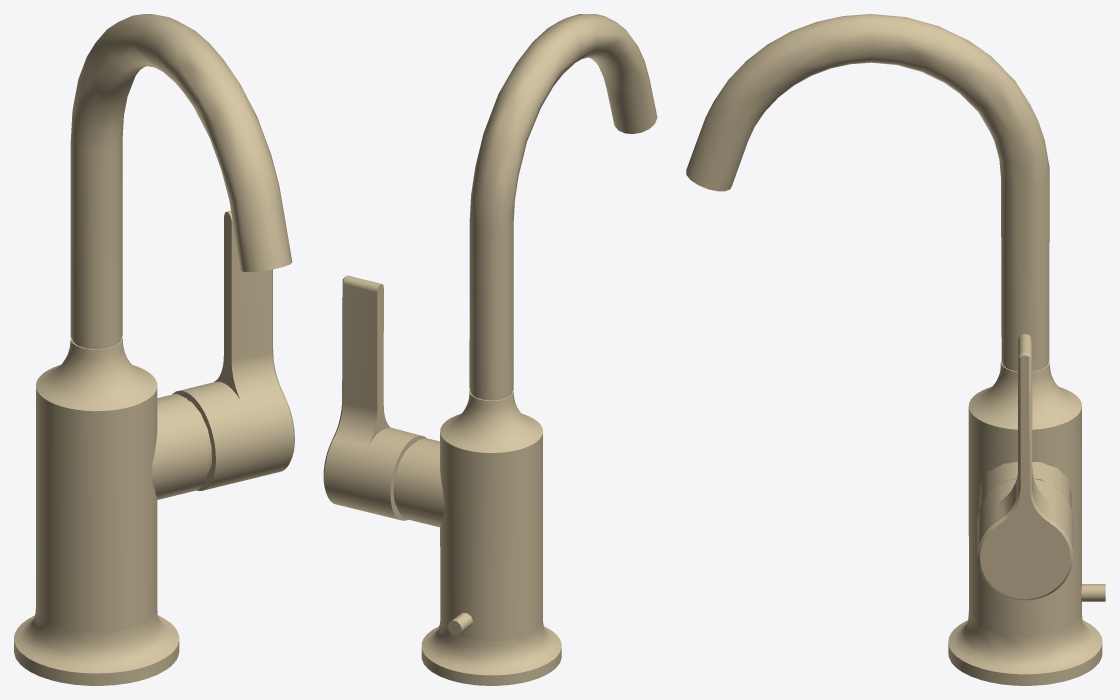
3 views of the same model, side by side, from view 1: azimuth 30°, elevation 25°; view 2: azimuth 150°, elevation 25°; view 3: azimuth 270°, elevation 25° (orthographic). The views are drawn at different scales.
Visible parts, largest first — view 1: L_b3fd0373_e40e_47cc_bae9_4134293fa280_I4, L_bc06e1d6_9562_45b6_9079_8a355efceec8_I5, L_0d1ed727_36de_4429_a493_0a0added364f_I1, L_e933ee48_d21f_4b62_84b1_4d9048b2e1e1_I6; view 2: L_b3fd0373_e40e_47cc_bae9_4134293fa280_I4, L_bc06e1d6_9562_45b6_9079_8a355efceec8_I5, L_0d1ed727_36de_4429_a493_0a0added364f_I1, L_e933ee48_d21f_4b62_84b1_4d9048b2e1e1_I6; view 3: L_bc06e1d6_9562_45b6_9079_8a355efceec8_I5, L_b3fd0373_e40e_47cc_bae9_4134293fa280_I4, L_0d1ed727_36de_4429_a493_0a0added364f_I1, L_e933ee48_d21f_4b62_84b1_4d9048b2e1e1_I6.
Part boxes in pixels (box(x1,y1,x2,y2)): L_b3fd0373_e40e_47cc_bae9_4134293fa280_I4: box(14, 337, 179, 685); L_bc06e1d6_9562_45b6_9079_8a355efceec8_I5: box(70, 14, 292, 346); L_0d1ed727_36de_4429_a493_0a0added364f_I1: box(172, 211, 294, 490); L_e933ee48_d21f_4b62_84b1_4d9048b2e1e1_I6: box(152, 393, 211, 499); L_b3fd0373_e40e_47cc_bae9_4134293fa280_I4: box(421, 390, 561, 685); L_bc06e1d6_9562_45b6_9079_8a355efceec8_I5: box(469, 14, 657, 398); L_0d1ed727_36de_4429_a493_0a0added364f_I1: box(323, 275, 426, 520); L_e933ee48_d21f_4b62_84b1_4d9048b2e1e1_I6: box(393, 438, 444, 527); L_bc06e1d6_9562_45b6_9079_8a355efceec8_I5: box(686, 14, 1049, 369); L_b3fd0373_e40e_47cc_bae9_4134293fa280_I4: box(948, 361, 1102, 685); L_0d1ed727_36de_4429_a493_0a0added364f_I1: box(977, 334, 1073, 600); L_e933ee48_d21f_4b62_84b1_4d9048b2e1e1_I6: box(979, 461, 1071, 509).
Bounding box in the file's own units: 0.1029 × 0.2738 × 0.1634.
